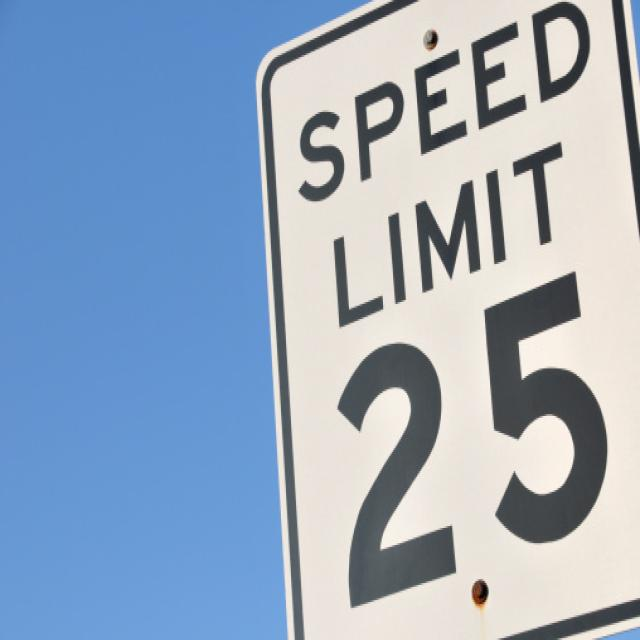speedLimit25: (255, 0, 639, 638)
